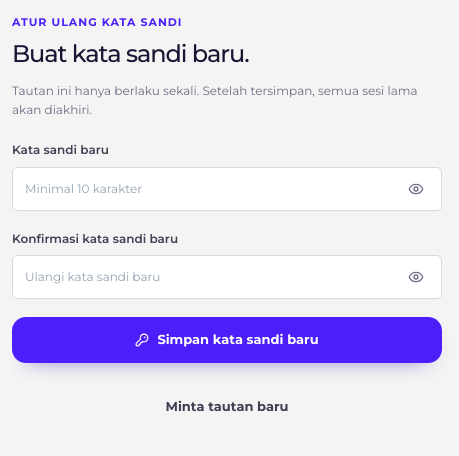
Test: halaman atur ulang kata sandi › menolak konfirmasi kata sandi yang tidak cocok tanpa menghubungi backend
In the password field labelled "Kata sandi baru": coordinates (227, 189) x1=12 y1=167 x2=442 y2=211, type "N3w-strong-password!"
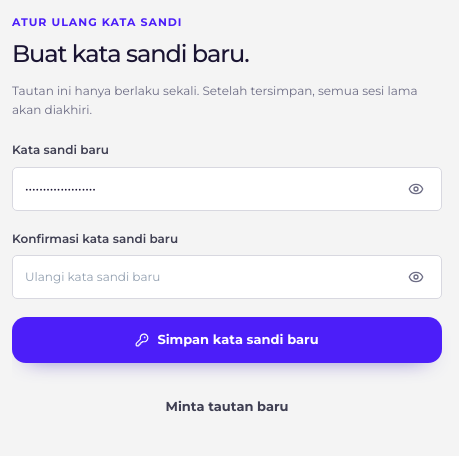
In the password field labelled "Konfirmasi kata sandi baru": coordinates (227, 277) x1=12 y1=255 x2=442 y2=299, type "beda-password!"
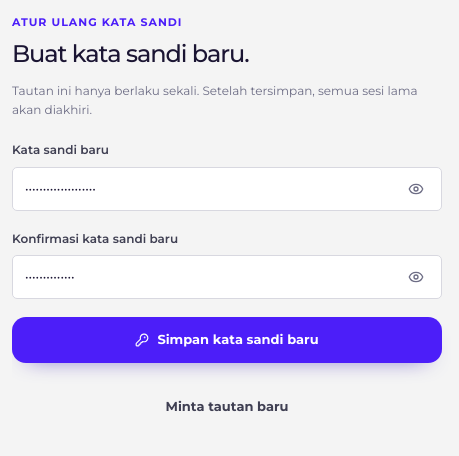
Click the button "Simpan kata sandi baru": coordinates (227, 340) x1=12 y1=317 x2=442 y2=363
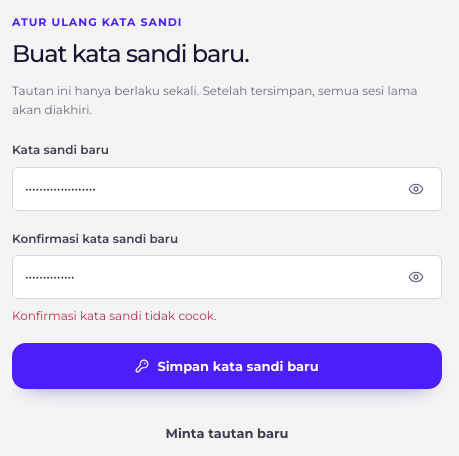
Expected: the message reads "Konfirmasi kata sandi tidak cocok.", x1=12 y1=308 x2=217 y2=323
